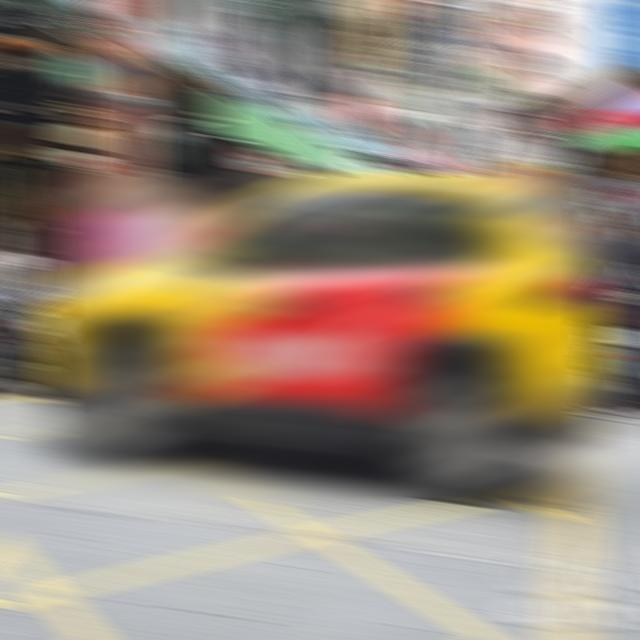Door: (42, 175, 604, 501)
